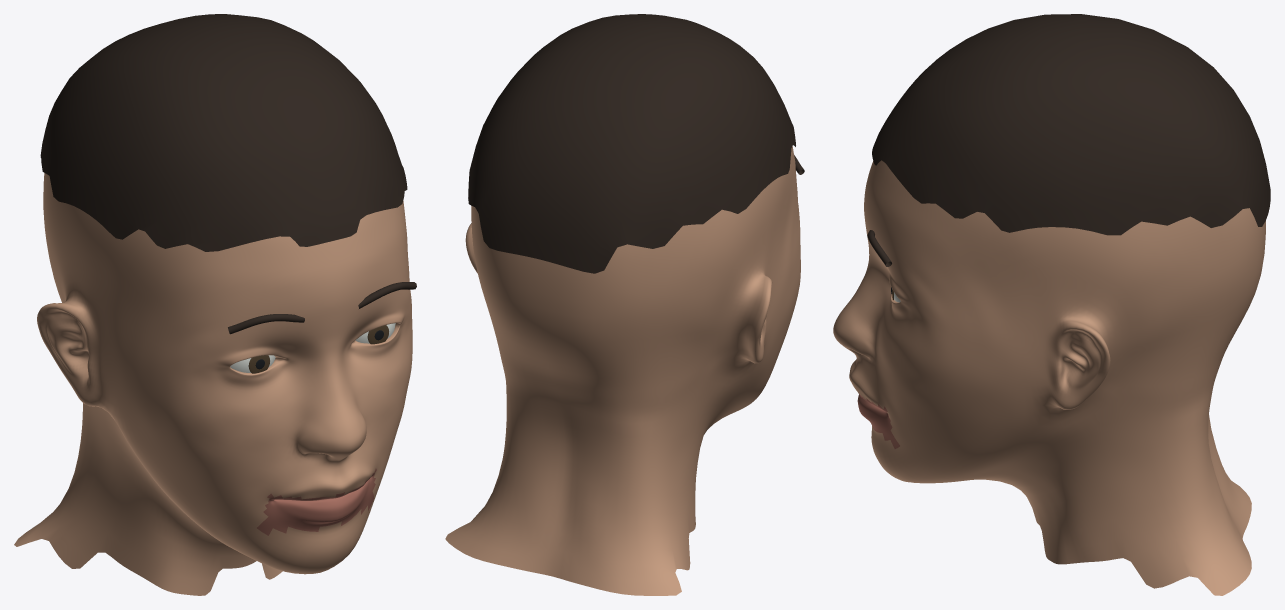
File: dealer-head.glb
3 views of the same model, side by side, from view 1: azimuth 30°, elevation 25°; view 2: azimuth 150°, elevation 25°; view 3: azimuth 270°, elevation 25° (orthographic). The views are drawn at different scales.
Visible parts, largest first — view 1: DealerHead, Hair, Eyebrow; view 2: DealerHead, Hair; view 3: DealerHead, Hair.
Part boxes in pixels (x1,y1,x2,y2): DealerHead: [14, 173, 412, 595]; Hair: [40, 14, 407, 251]; Eyebrow: [228, 314, 304, 334]; DealerHead: [445, 146, 800, 595]; Hair: [468, 14, 795, 273]; DealerHead: [833, 160, 1265, 595]; Hair: [872, 14, 1270, 235].
Bounding box in the file's own units: 0.3148 × 0.4832 × 0.3759.
